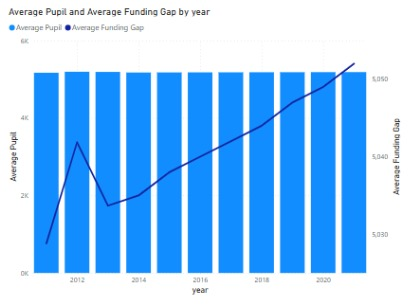

What the dashboard file says about the page in this screenshot:
{"tool":"powerbi","page":{"name":"Page 1","canvas":[1280,720],"ordinal":0},"visuals":[{"type":"lineClusteredColumnComboChart","fields":{"Category":["cleaned_numerical_data (1).year"],"Y":["Sum(cleaned_numerical_data (1).Avg pupil)"],"Y2":["Sum(cleaned_numerical_data (1).Avg funding gap)"]},"box":[374.1,159.4,758.3,463],"z":0}]}

Visuals, with their boxes on the page's 1280x720 design canvas (x1, y1, x2, y2). These are canvas units, not pixel positions in the 409x308 screenshot, which may show the page scaled, cropped or inside an application window:
lineClusteredColumnComboChart - cleaned_numerical_data (1).year x Sum(cleaned_numerical_data (1).Avg pupil): region(374, 159, 1132, 622)
